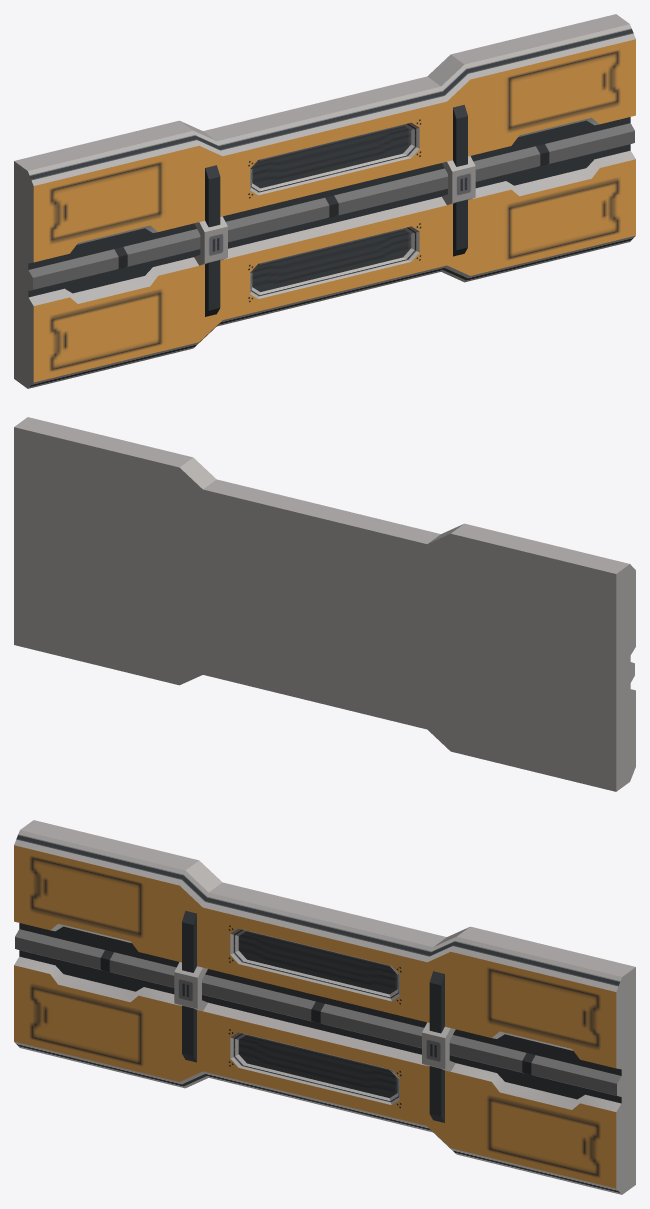
Rendered from SM_Bld_Wall_Trim_01.fbx.
3 renders of one model, top to bottom at view 1: azimuth 30°, elevation 25°; view 2: azimuth 150°, elevation 25°; view 3: azimuth 330°, elevation 25°, orthographic.
Parts seen in each view (by area): view 1: SM_Bld_Wall_Trim_01; view 2: SM_Bld_Wall_Trim_01; view 3: SM_Bld_Wall_Trim_01.
Boxes of the visible parts, <box> form: SM_Bld_Wall_Trim_01: <box>14,14,635,388</box>; SM_Bld_Wall_Trim_01: <box>14,417,635,791</box>; SM_Bld_Wall_Trim_01: <box>14,820,635,1194</box>.
Size of the model in its own units: 250 by 86.43 by 18.
